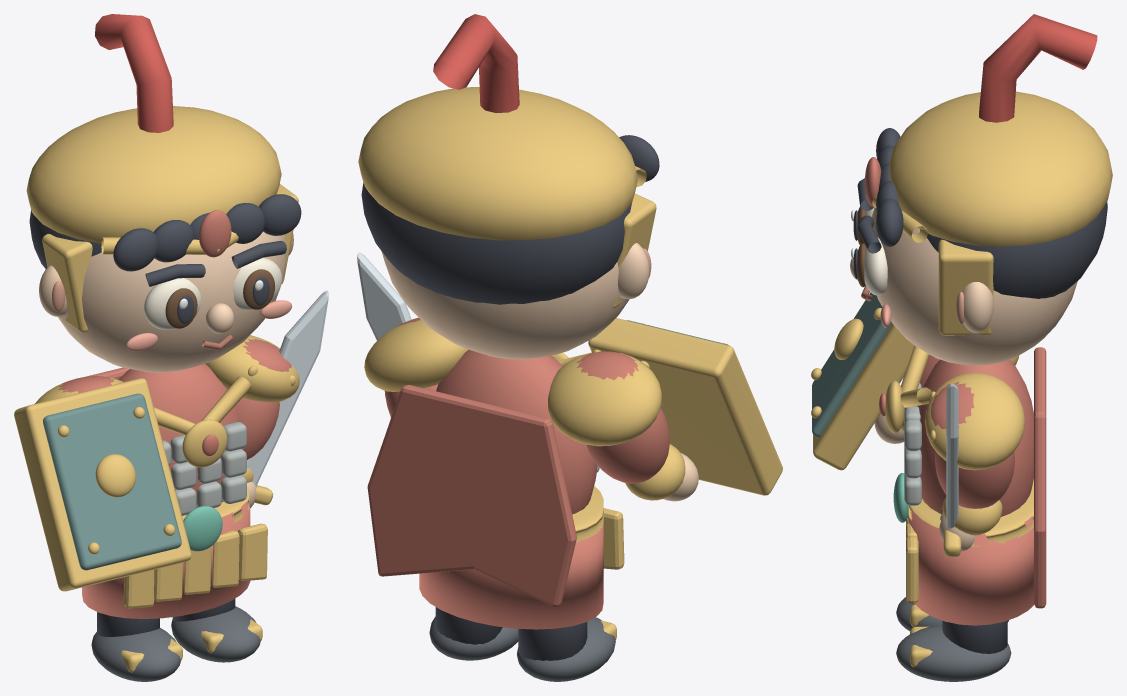
The model's file is r_shield.fbx.
The picture shows the model from 3 angles, left to right: view 1: azimuth 30°, elevation 25°; view 2: azimuth 150°, elevation 25°; view 3: azimuth 270°, elevation 25°; orthographic projection. The views are drawn at different scales.
Visible parts, largest first — view 1: helmet, shield_face, face, shield_edge, plume, body, robe_skirt, dao_blade, boot, boot.001, shoulder_gold, cheek_guard (+36 smaller); view 2: cape, helmet, shield_edge, hair_mass, face, robe_skirt, body, shoulder_gold.001, plume, shoulder_gold, sleeve.001, boot (+12 smaller); view 3: helmet, face, robe_skirt, hair_mass, shoulder_gold, plume, shield_edge, body, boot.001, shield_face, cape, cheek_guard.001 (+22 smaller).
Part boxes in pixels (x1,y1,x2,y2): helmet: (26,106,281,243); shield_face: (43,393,181,570); face: (45,231,286,372); shield_edge: (14,378,191,591); plume: (95,14,173,132); body: (118,364,243,507); robe_skirt: (82,500,250,618); dao_blade: (247,290,328,485); boot: (91,628,180,681); boot.001: (171,606,260,662); shoulder_gold: (205,335,299,402); cheek_guard: (42,233,92,332); cape: (367,385,576,606); helmet: (358,87,637,240); shield_edge: (588,318,782,495); hair_mass: (361,182,631,304); face: (381,251,629,359); robe_skirt: (419,508,603,629); body: (436,349,597,514); shoulder_gold.001: (548,351,661,446); plume: (433,14,519,112); shoulder_gold: (364,320,467,391); sleeve.001: (586,407,669,483); boot: (516,617,615,681); helmet: (889,91,1112,246); face: (871,207,1077,365); robe_skirt: (908,508,1034,625); hair_mass: (927,201,1107,298); shoulder_gold: (925,372,1024,470); plume: (979,14,1097,122); shield_edge: (813,323,914,470); body: (917,359,1033,516); boot.001: (896,625,1011,681); shield_face: (812,292,892,437); cape: (1034,347,1046,608); cheek_guard.001: (938,239,993,335).
Bounding box in the file's own units: 1.54 × 2.81 × 1.2.
